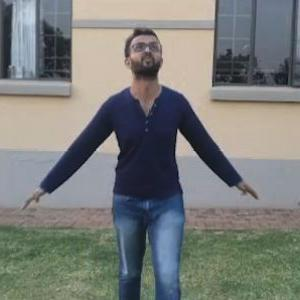land: (17, 22, 262, 295)
